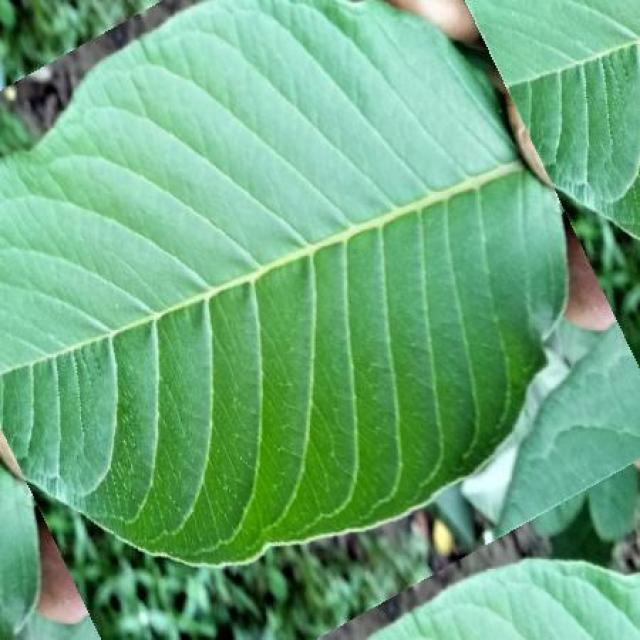Disease Free: (0, 0, 640, 640), (371, 560, 640, 639)
